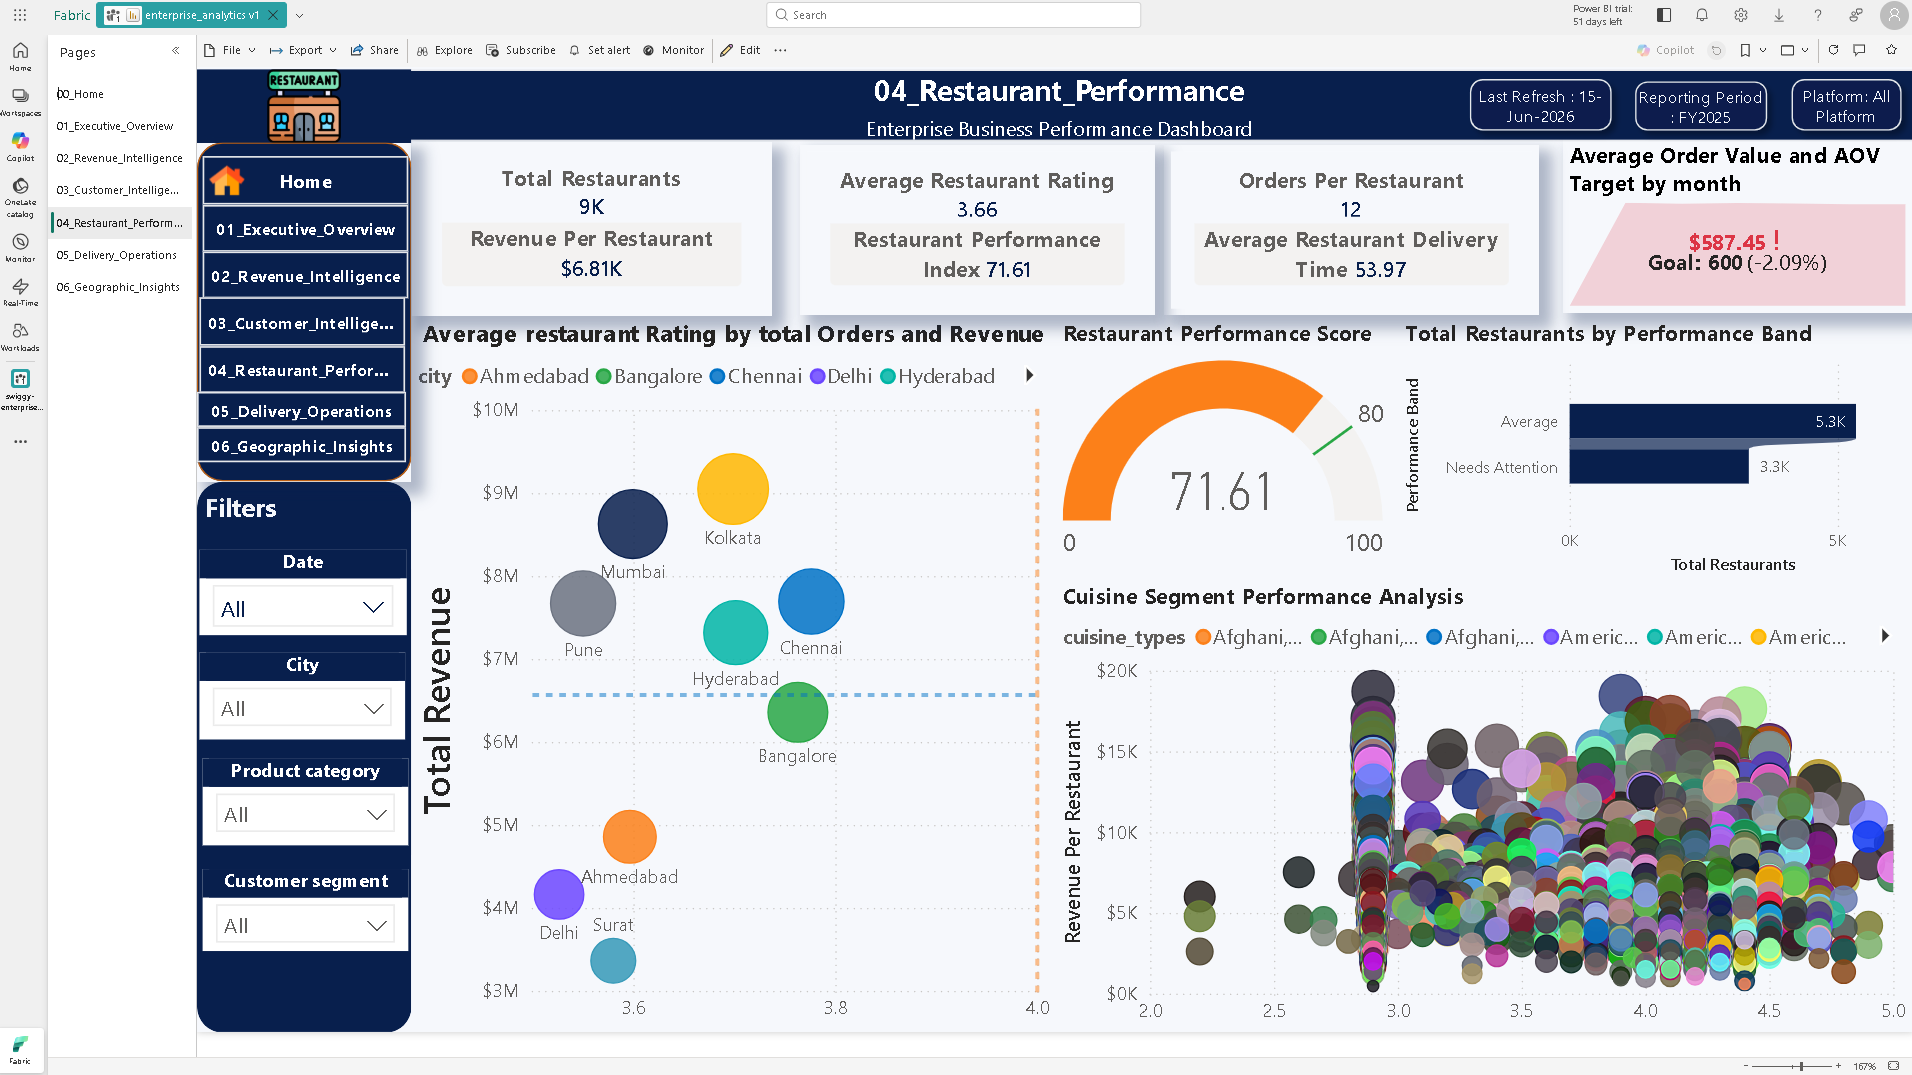

The page's visual inventory and layout, read from the dashboard file:
{"tool":"powerbi","page":{"name":"04_Restaurant_Performance","canvas":[1280,720],"ordinal":4},"visuals":[{"type":"shape","title":"04_Restaurant_Performance","box":[2,2,1278.7,54.1],"z":0},{"type":"shape","box":[939.7,0,123.6,56.3],"z":1000},{"type":"shape","box":[1063.3,1.8,116.3,54.5],"z":2000},{"type":"shape","box":[1179.6,0,100,56.3],"z":3000},{"type":"cardVisual","fields":{"Data":["dim_restaurants.Total Restaurants"]},"box":[160.1,55.9,268.1,129.2],"z":4000},{"type":"kpi","fields":{"TrendLine":["dim_date.month"],"Indicator":["Measure_Table.Average Order Value"],"Goal":["Measure_Table.AOV Target"]},"box":[1018.4,54,260.4,129.2],"z":5000},{"type":"image","box":[0,1.8,159.9,54.5],"z":6000},{"type":"scatterChart","title":"Average restaurant Rating by  total Orders  and Revenue","fields":{"X":["dim_restaurants.Average Restaurant Rating"],"Y":["Measure_Table.Total Revenue"],"Size":["Measure_Table.Total Orders"],"Series":["dim_restaurants.city"]},"box":[159.6,185.8,480.8,533.3],"z":7000},{"type":"shape","title":"Filters","box":[0,309,159.9,410.8],"z":8000},{"type":"cardVisual","fields":{"Data":["dim_restaurants.Average Restaurant Rating"]},"box":[449.4,57.9,264.2,127.3],"z":9000},{"type":"cardVisual","fields":{"Data":["dim_restaurants.Orders Per Restaurant"]},"box":[721.4,57.9,279.7,127.3],"z":10000},{"type":"gauge","title":"Restaurant Performance Score","fields":{"Y":["dim_restaurants.Restaurant Performance Score"],"TargetValue":["dim_restaurants.target"],"MinValue":["dim_restaurants.min"],"MaxValue":["dim_restaurants.max"]},"box":[640.4,186.6,255.7,195.8],"z":11000},{"type":"barChart","fields":{"Category":["dim_restaurants.Performance Band"],"Y":["dim_restaurants.Total Restaurants"]},"box":[896.1,186.6,382.4,195.8],"z":12000},{"type":"scatterChart","title":"Cuisine Segment Performance Analysis","fields":{"X":["dim_restaurants.Average Restaurant Rating"],"Y":["dim_restaurants.Revenue Per Restaurant"],"Size":["dim_restaurants.Orders Per Restaurant"],"Series":["dim_restaurants.cuisine_types"]},"box":[640.4,382.4,638.1,338.6],"z":13000},{"type":"shape","box":[0,56.3,159.9,252.6],"z":14000},{"type":"actionButton","title":"Home","box":[4,66.6,153.5,36.4],"z":15000},{"type":"actionButton","title":"01_Executive_Overview","box":[4,103,153.5,34.3],"z":16000},{"type":"actionButton","title":"02_Revenue_Intelligence","box":[4,137.3,153.5,34.3],"z":17000},{"type":"actionButton","title":"03_Customer_Intelligence","box":[2,171.7,153.5,36.4],"z":18000},{"type":"actionButton","title":"04_Restaurant_Performance","box":[2,208,153.5,34.3],"z":19000},{"type":"actionButton","title":"05_Delivery_Operations","box":[0,242.4,155.5,26.3],"z":20000},{"type":"actionButton","title":"05_Delivery_Operations","box":[0,268.6,155.5,26.3],"z":21000},{"type":"slicer","title":"Date","fields":{"Values":["dim_date.month_year","dim_date.weekday_name"]},"box":[1.8,359.9,154.5,63.6],"z":22000},{"type":"slicer","title":"City","fields":{"Values":["dim_restaurants.city"]},"box":[2,436.3,153.5,64.6],"z":23000},{"type":"slicer","title":"Product category","fields":{"Values":["fact_orders.product_category"]},"box":[4,515.1,153.5,64.6],"z":24000},{"type":"slicer","title":"Customer segment","fields":{"Values":["dim_customers.customer_segment"]},"box":[4,597.9,153.5,60.6],"z":25000}]}

Visuals, with their boxes on the page's 1280x720 design canvas (x1, y1, x2, y2). These are canvas units, not pixel positions in the 1912x1075 screenshot, which may show the page scaled, cropped or inside an application window:
"04_Restaurant_Performance" shape: select_region(2, 2, 1281, 56)
shape: select_region(940, 0, 1063, 56)
shape: select_region(1063, 2, 1180, 56)
shape: select_region(1180, 0, 1280, 56)
cardVisual - dim_restaurants.Total Restaurants: select_region(160, 56, 428, 185)
kpi - dim_date.month x Measure_Table.Average Order Value: select_region(1018, 54, 1279, 183)
image: select_region(0, 2, 160, 56)
"Average restaurant Rating by  total Orders  and Revenue" scatterChart: select_region(160, 186, 640, 719)
"Filters" shape: select_region(0, 309, 160, 720)
cardVisual - dim_restaurants.Average Restaurant Rating: select_region(449, 58, 714, 185)
cardVisual - dim_restaurants.Orders Per Restaurant: select_region(721, 58, 1001, 185)
"Restaurant Performance Score" gauge: select_region(640, 187, 896, 382)
barChart - dim_restaurants.Performance Band x dim_restaurants.Total Restaurants: select_region(896, 187, 1278, 382)
"Cuisine Segment Performance Analysis" scatterChart: select_region(640, 382, 1278, 721)
shape: select_region(0, 56, 160, 309)
"Home" actionButton: select_region(4, 67, 158, 103)
"01_Executive_Overview" actionButton: select_region(4, 103, 158, 137)
"02_Revenue_Intelligence" actionButton: select_region(4, 137, 158, 172)
"03_Customer_Intelligence" actionButton: select_region(2, 172, 156, 208)
"04_Restaurant_Performance" actionButton: select_region(2, 208, 156, 242)
"05_Delivery_Operations" actionButton: select_region(0, 242, 156, 269)
"05_Delivery_Operations" actionButton: select_region(0, 269, 156, 295)
"Date" slicer: select_region(2, 360, 156, 424)
"City" slicer: select_region(2, 436, 156, 501)
"Product category" slicer: select_region(4, 515, 158, 580)
"Customer segment" slicer: select_region(4, 598, 158, 658)
